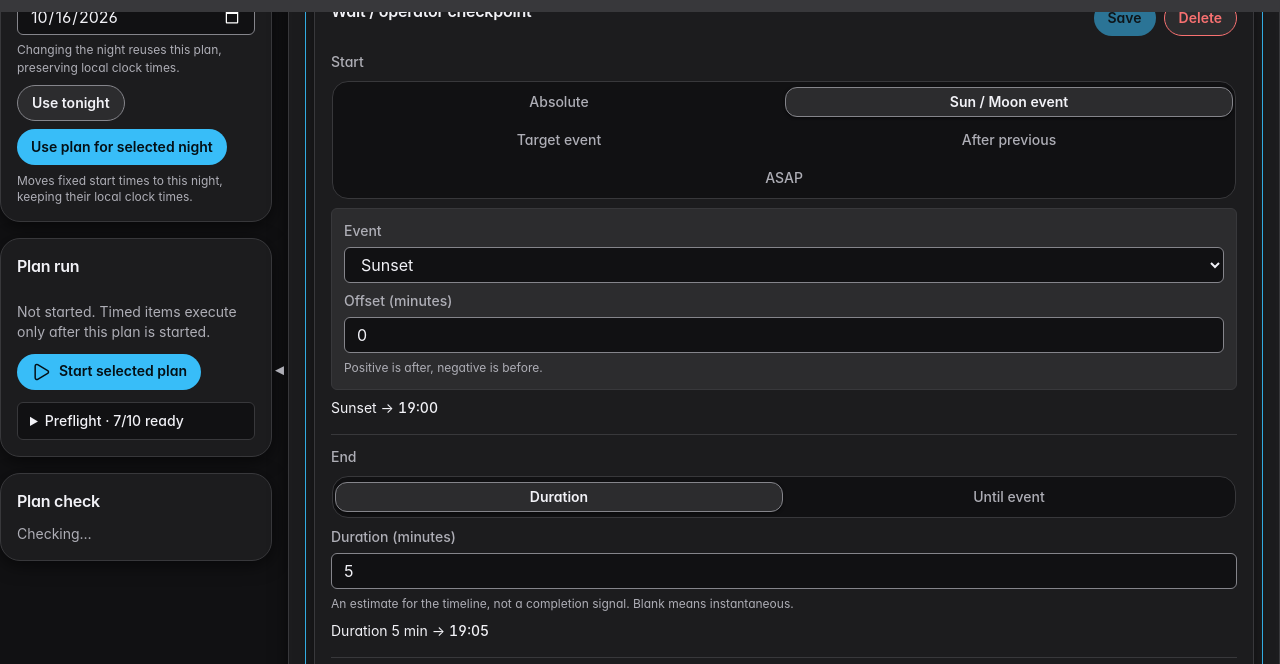
Test: SchedulingTab › does not refetch a saved revision because its websocket summary is still older
(page scrolled)
Clear the number field labelled "Duration (minutes)" at x=784, y=571, box [331, 553, 1237, 589]
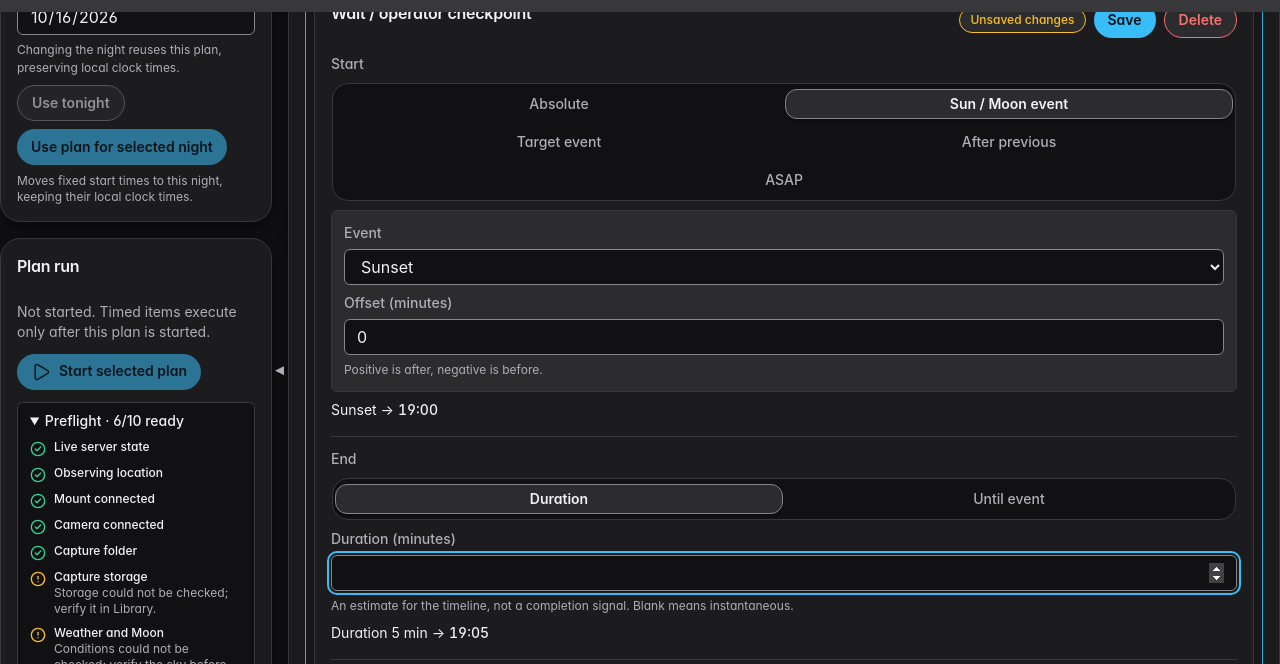
Type "12" into the number field labelled "Duration (minutes)".
click(784, 573); type("12")  # box [331, 555, 1237, 591]
(page scrolled)
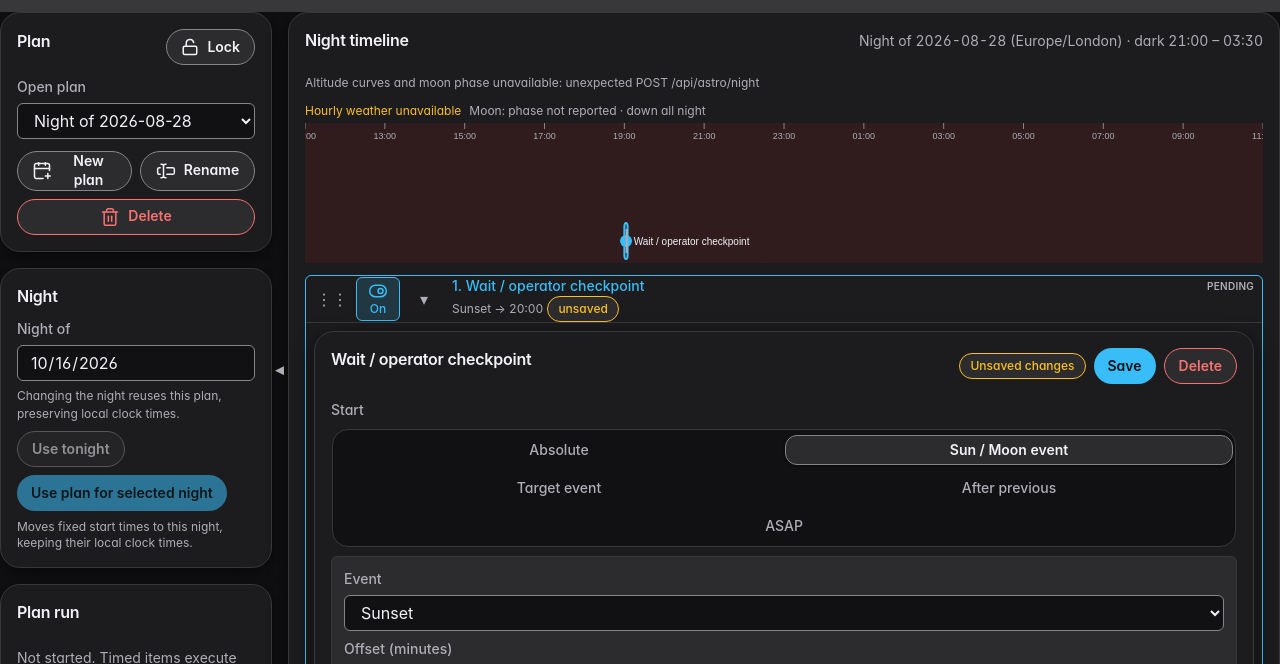
Click the button "Save".
click(1125, 366)  # box [1094, 348, 1156, 384]
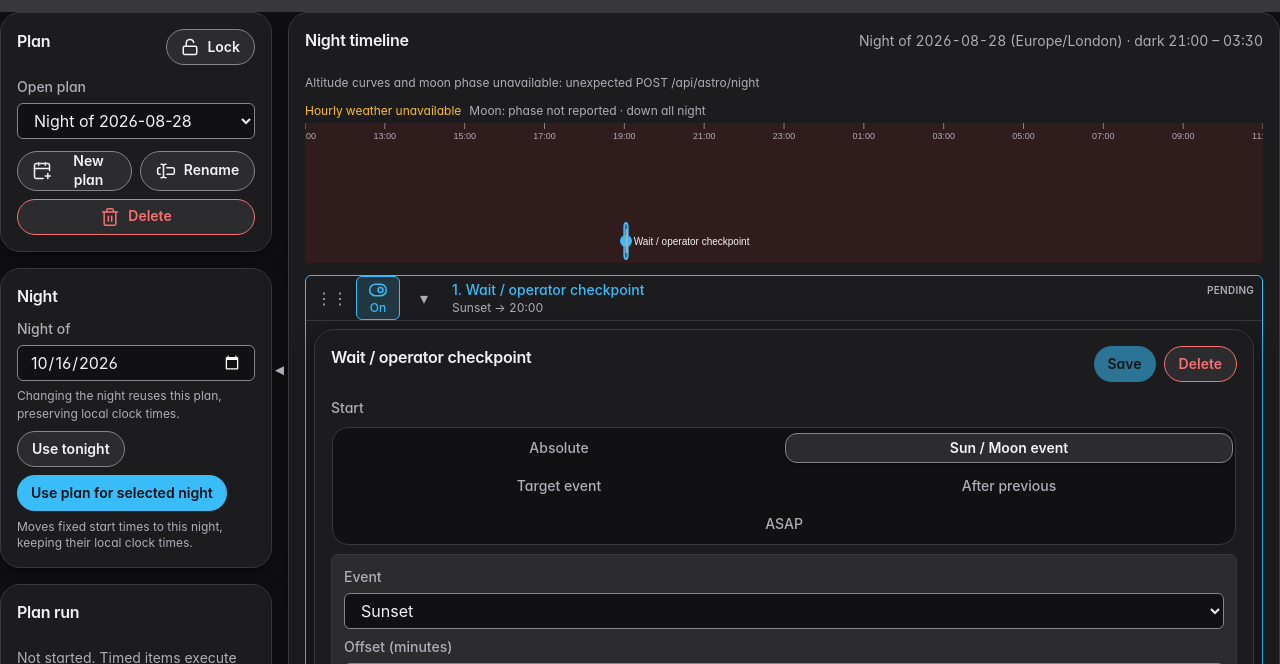
Expected: the text "Unsaved changes" is gone
